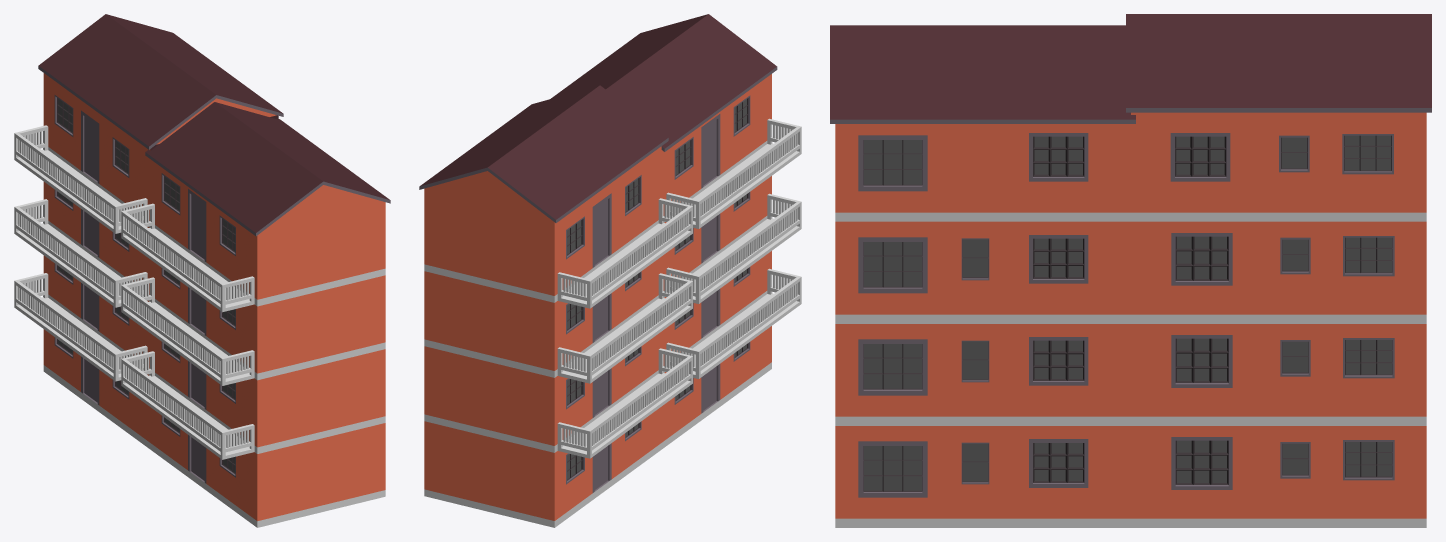
File: Apartment 6.fbx
The picture shows the model from 3 angles, left to right: view 1: azimuth 30°, elevation 25°; view 2: azimuth 150°, elevation 25°; view 3: azimuth 270°, elevation 25°; orthographic projection. The views are drawn at different scales.
Parts seen in each view (by area): view 1: building_003; view 2: building_003; view 3: building_003.
Part boxes in pixels (box(x1,y1,x2,y2)): building_003: box(14, 14, 390, 527); building_003: box(419, 14, 801, 527); building_003: box(830, 14, 1431, 527).
Size of the model in its own units: 510 by 1015 by 1176.
